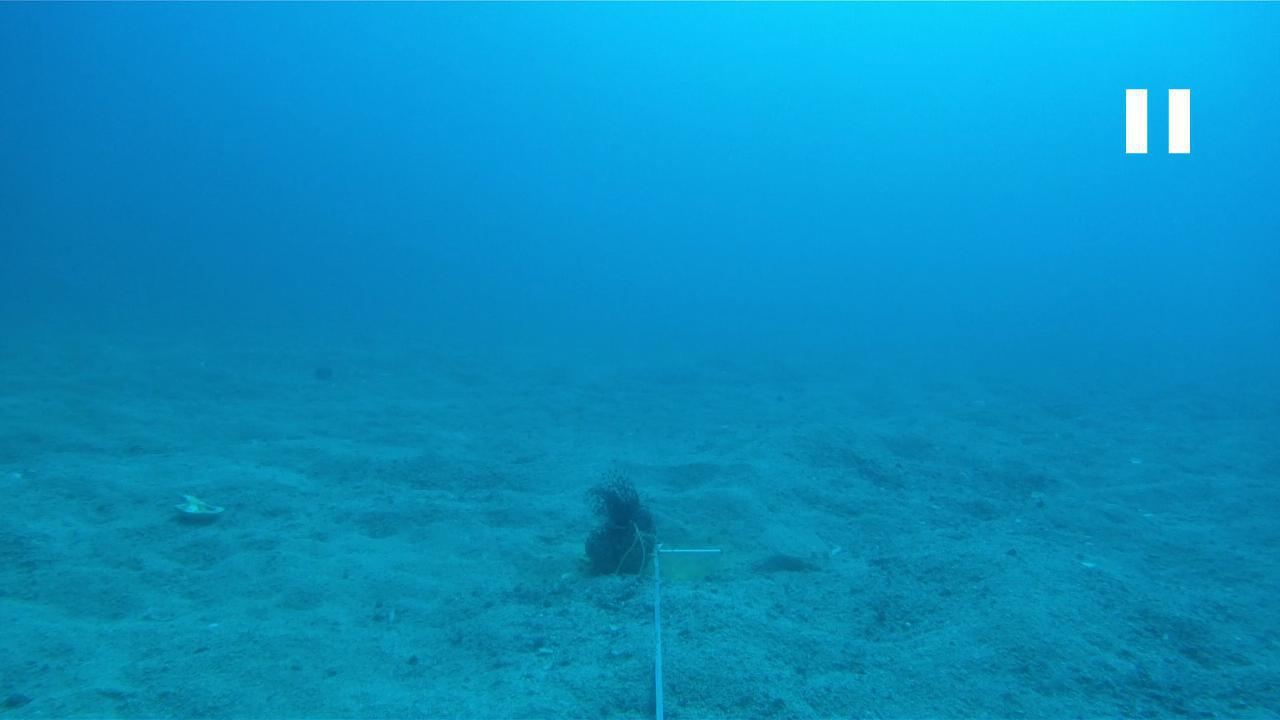bothus: (754, 517, 837, 572)
